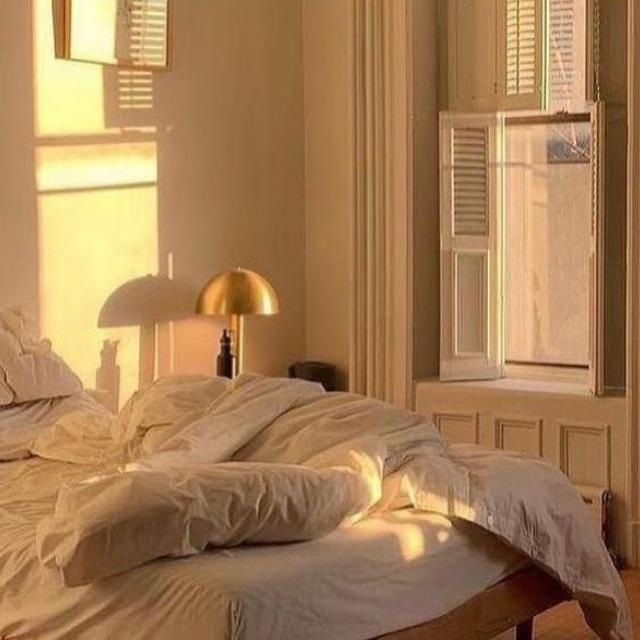bed: (0, 295, 590, 640)
